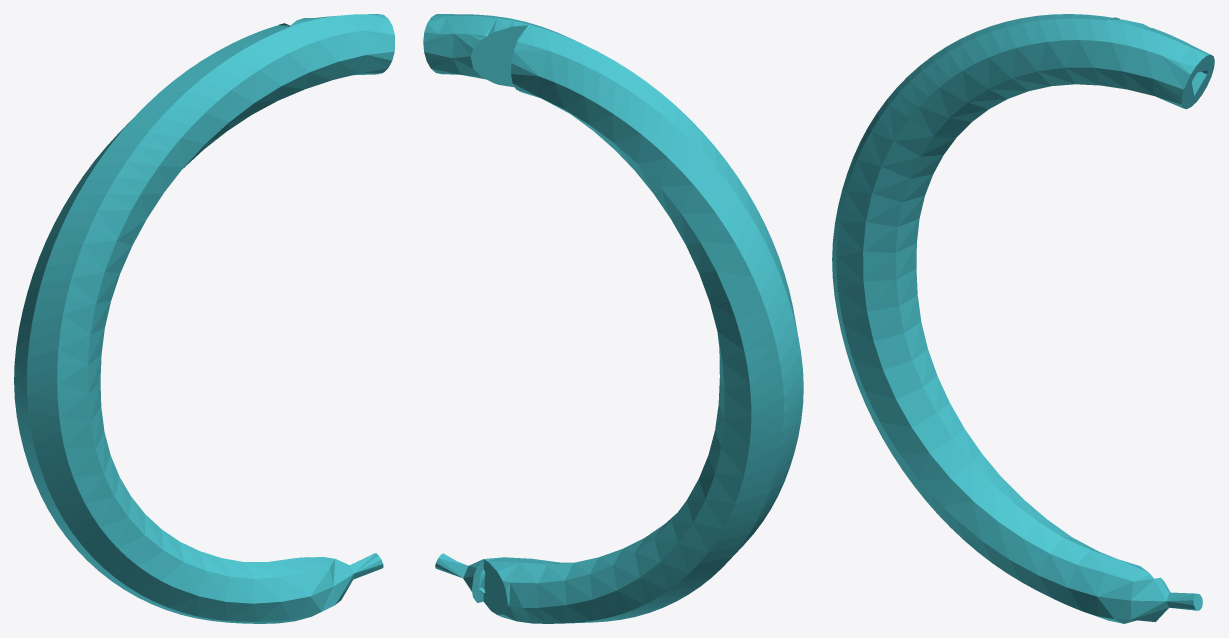
Rendered from target.dae.
The picture shows the model from 3 angles, left to right: view 1: azimuth 30°, elevation 25°; view 2: azimuth 150°, elevation 25°; view 3: azimuth 330°, elevation 25°; orthographic projection.
Visible parts, largest first — view 1: Target; view 2: Target; view 3: Target.
Part boxes in pixels (x1,y1,x2,y2): Target: [14, 14, 394, 623]; Target: [423, 14, 803, 623]; Target: [832, 14, 1214, 623].
Size of the model in its own units: 0.0187 by 0.00371 by 0.0291.
